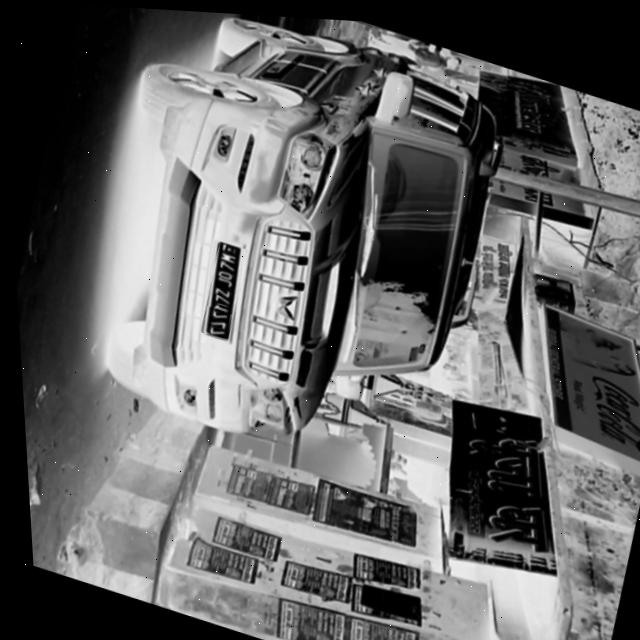0: (212, 266, 228, 278)
1: (207, 300, 224, 311)
7: (203, 323, 221, 336), (205, 307, 223, 319), (204, 315, 221, 327), (211, 275, 226, 284)
IND: (220, 242, 234, 252)
Indian_registered: (200, 239, 235, 337)
J: (208, 292, 225, 302)
M: (214, 248, 232, 262)
P: (213, 257, 229, 268)
Z: (208, 282, 226, 295)
